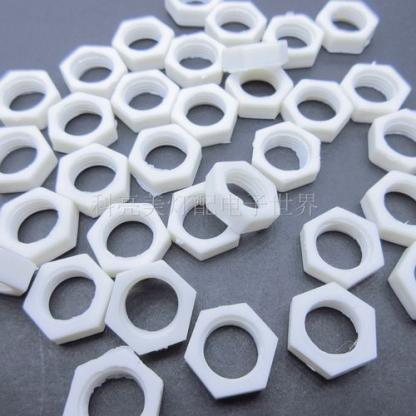FOD: (180, 300, 280, 402), (21, 250, 125, 346), (289, 279, 379, 382), (104, 257, 198, 355), (299, 202, 386, 291), (62, 346, 162, 415), (0, 185, 83, 266), (165, 177, 244, 261), (126, 122, 203, 197), (54, 143, 133, 216), (206, 158, 281, 233), (250, 118, 322, 194), (280, 76, 353, 142), (45, 90, 119, 154), (342, 58, 413, 122), (172, 81, 240, 147), (360, 167, 415, 247), (57, 40, 128, 98), (108, 13, 176, 72), (316, 0, 380, 55), (202, 1, 269, 47)
